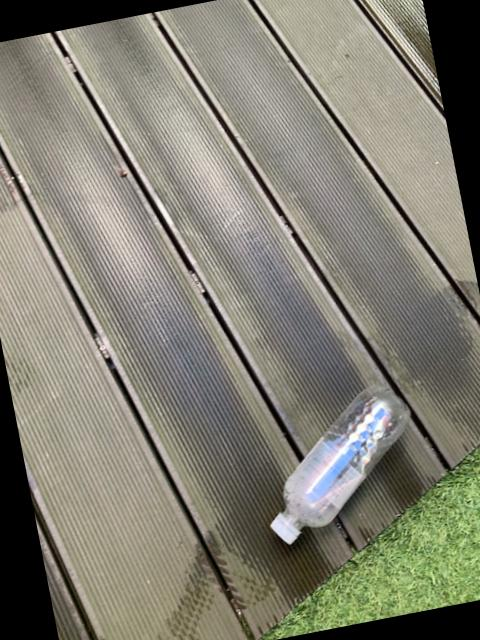plastic: (268, 383, 406, 542)
